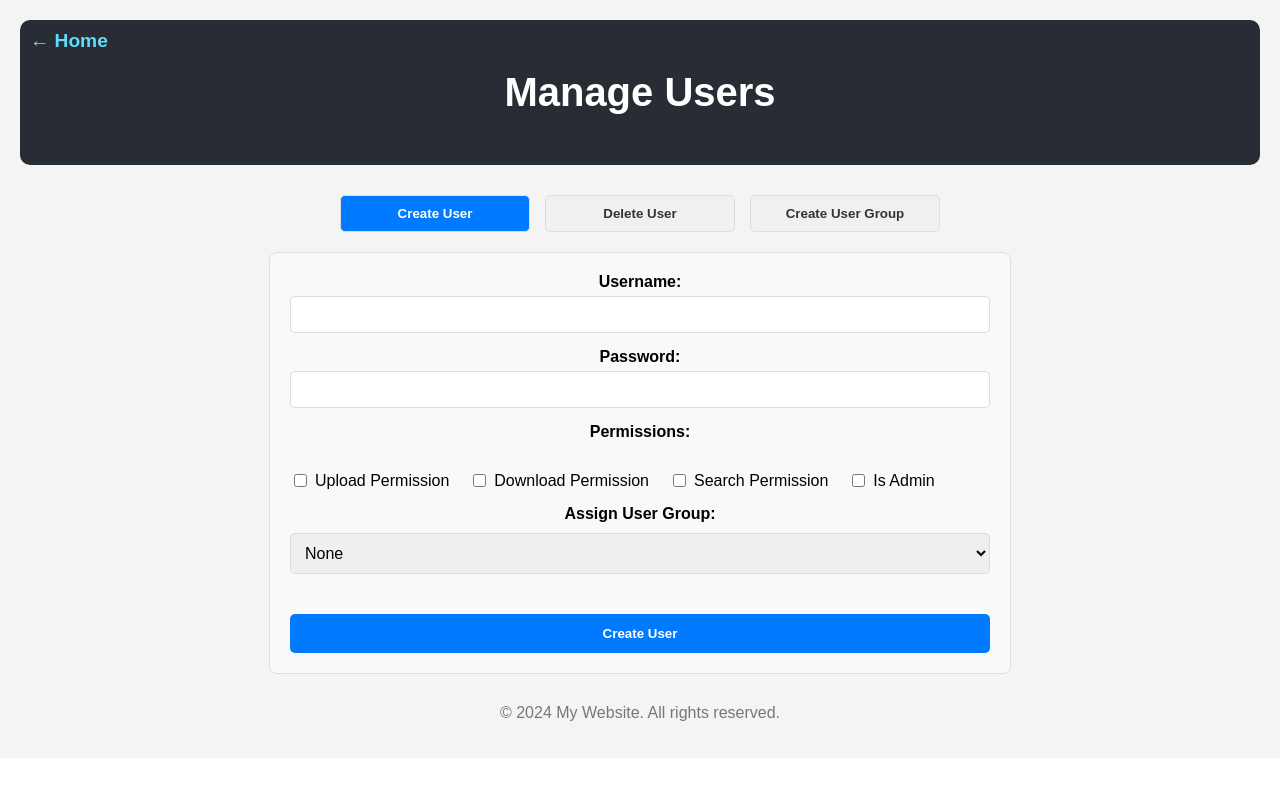
Test: ManageUsers Component › switches to Delete User mode and shows the delete form
Click the button "Delete User".
click(640, 214)  # box [545,195,735,232]
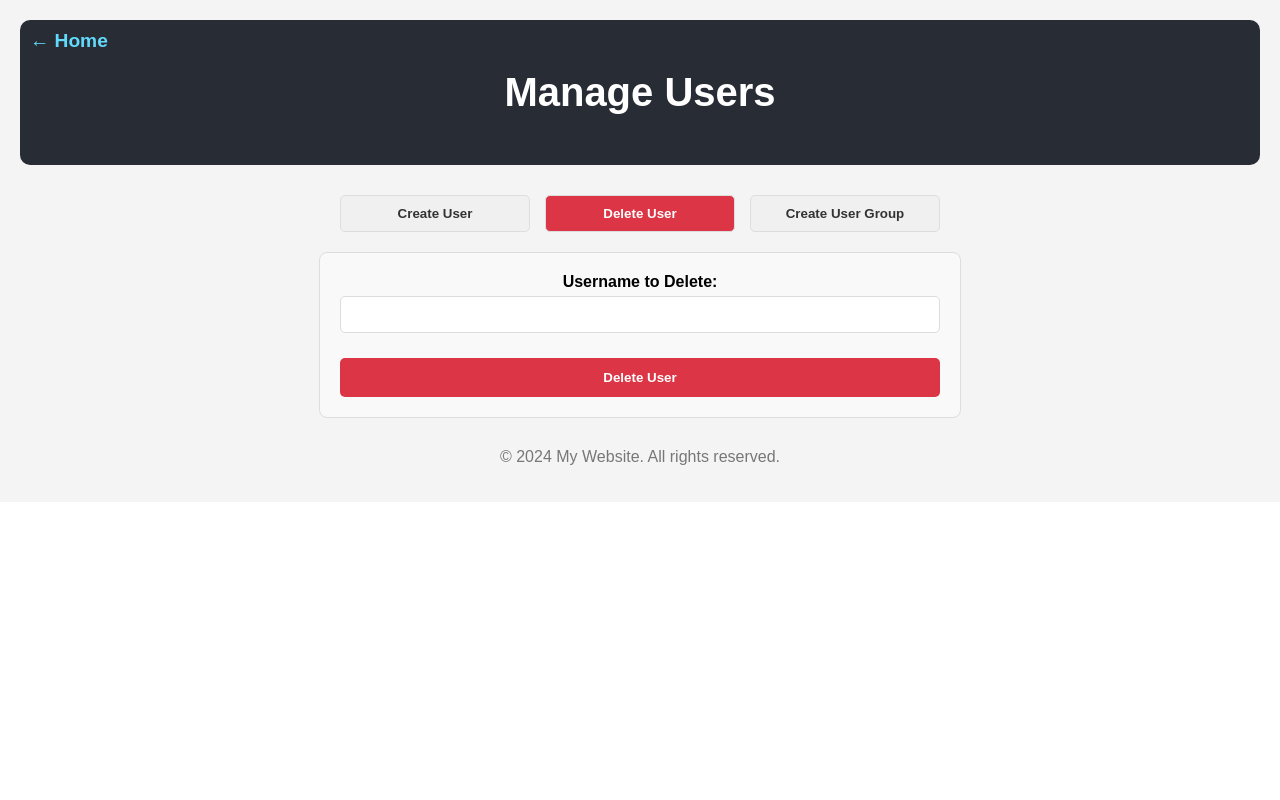
expect the text "Username to Delete:" is shown: met, box [563,273,717,290]
